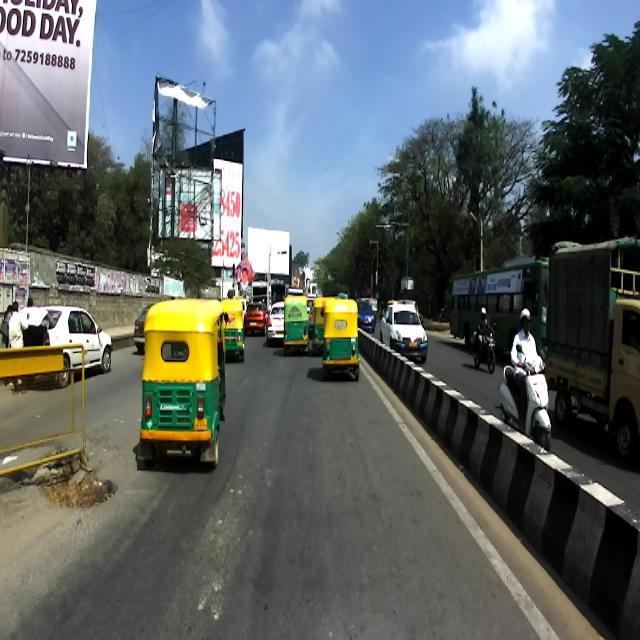auto ahead at: (130, 296, 228, 478), (316, 296, 366, 378)
barrier ahead at: (0, 346, 91, 496)
